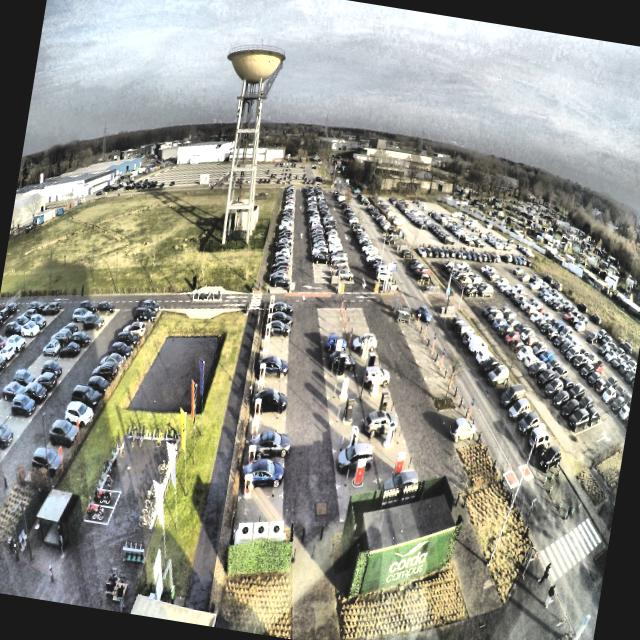cabinet: (237, 521, 283, 539)
car: (243, 460, 285, 492), (249, 431, 294, 459), (252, 388, 289, 415), (255, 356, 290, 378), (264, 320, 293, 337), (268, 310, 294, 327), (270, 301, 293, 315)
parking: (235, 495, 283, 530), (240, 467, 284, 497), (243, 442, 285, 465), (247, 417, 286, 441), (250, 397, 287, 420), (256, 361, 288, 381), (254, 381, 287, 397), (259, 349, 288, 362), (262, 329, 289, 340), (265, 308, 291, 319), (261, 340, 289, 350), (264, 319, 290, 329)
supercharger: (244, 475, 253, 497), (254, 400, 262, 420), (248, 446, 256, 465), (252, 421, 259, 438), (257, 380, 264, 394), (260, 364, 266, 378), (262, 350, 268, 361), (265, 325, 271, 336), (264, 337, 269, 349), (270, 296, 275, 307), (267, 314, 273, 323), (269, 305, 274, 313)
